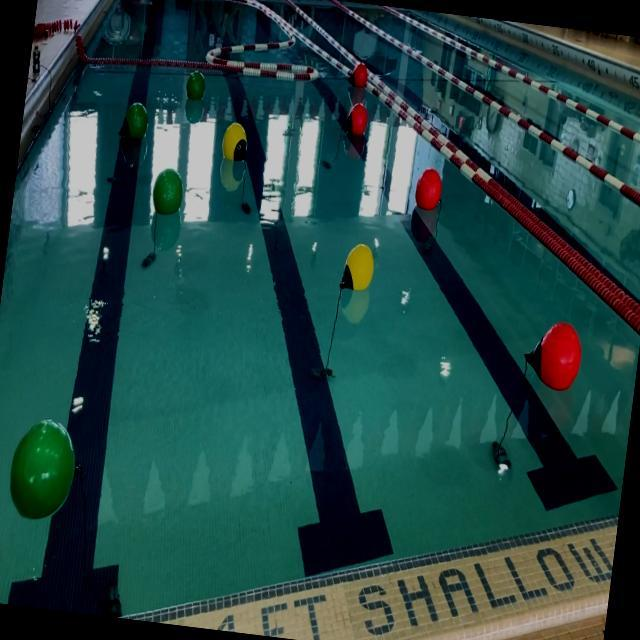buoy: (3, 413, 84, 525), (522, 315, 584, 392), (338, 239, 378, 294), (151, 166, 187, 217), (119, 99, 152, 145), (411, 166, 445, 210), (219, 120, 251, 166), (339, 99, 370, 139), (184, 69, 206, 104), (346, 60, 370, 91)
